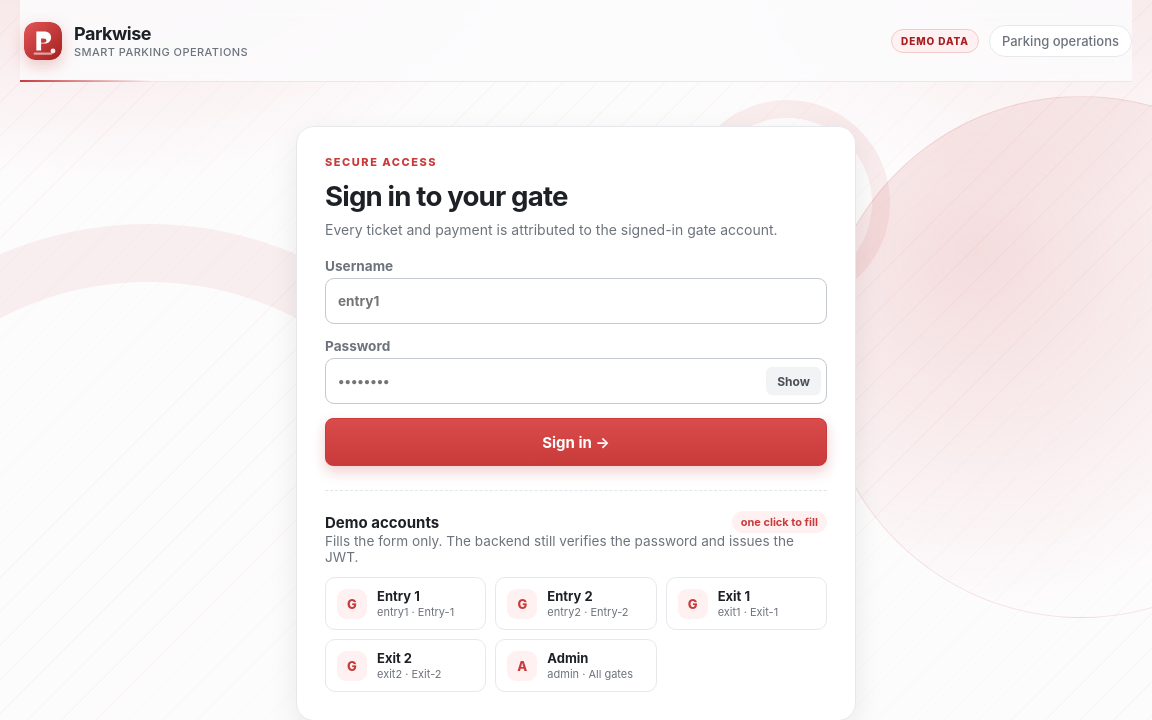
Test: parking console routes › a pre-filled demo account signs in and lands on its gate
What coordinates should you click on to do the following:
click the button "G Exit 1 exit1 · Exit-1"
I would click on:
 (746, 604)
Its box is [666,577,827,630].
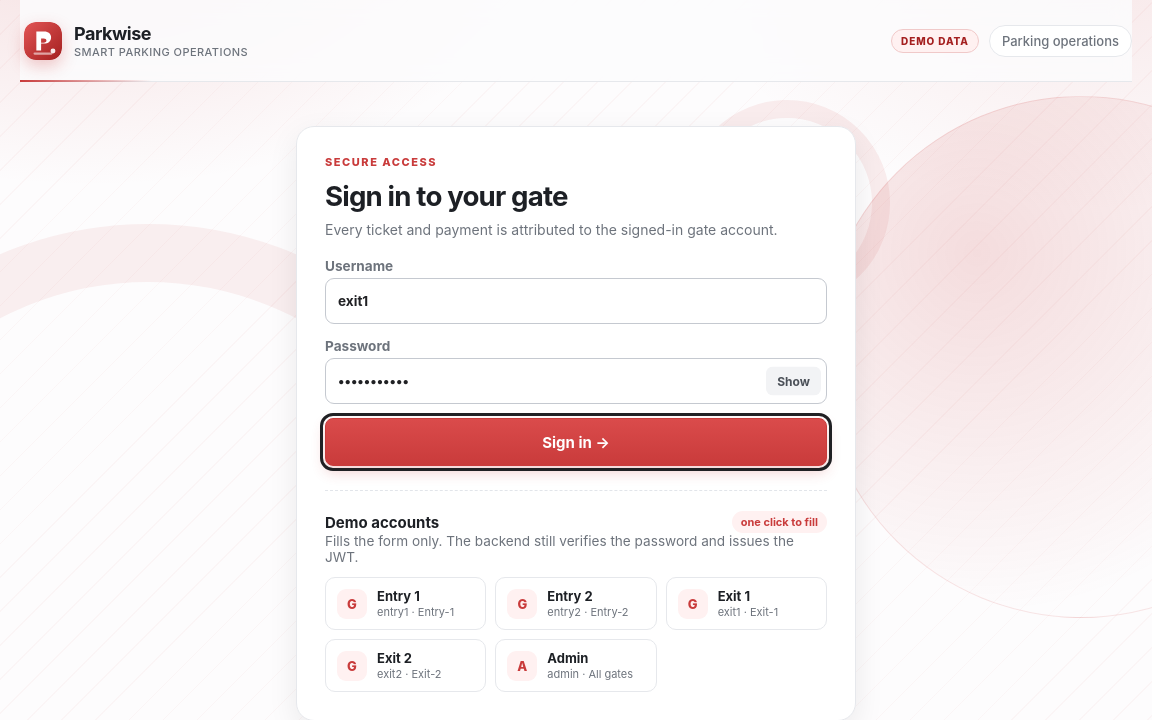
What coordinates should you click on to do the following:
click the button "Sign in →"
I would click on:
 (576, 442)
Its box is [325,418,827,466].
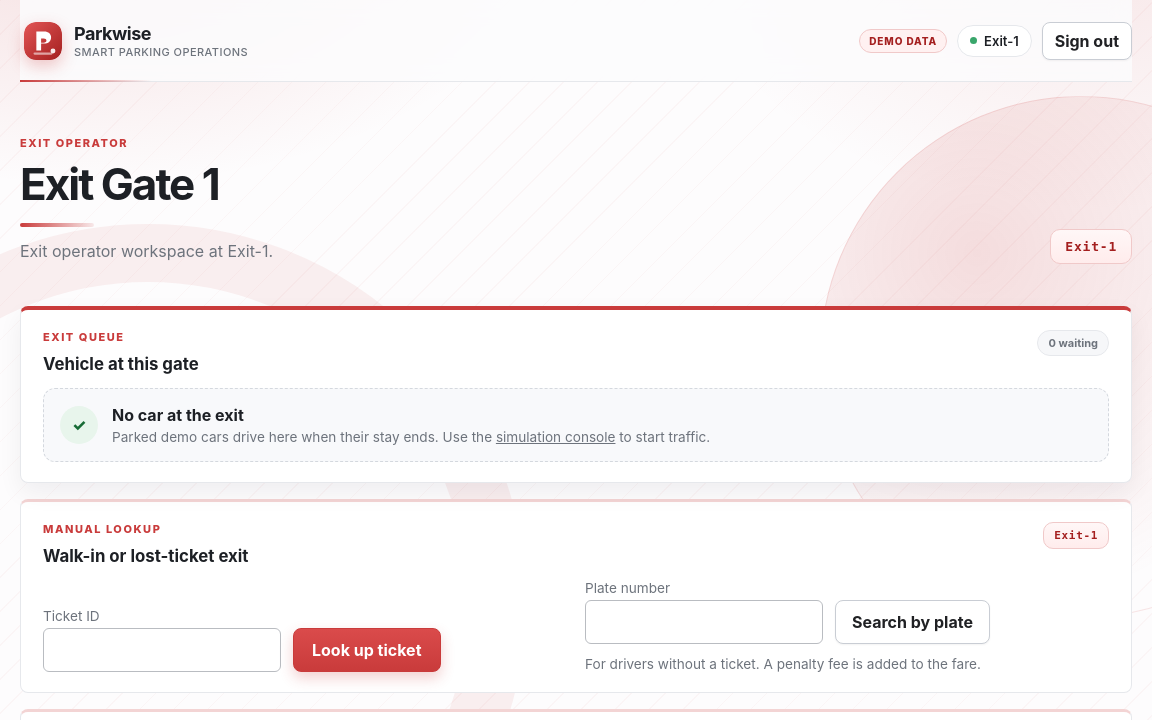
Expected: the heading "Exit Gate 1" is shown, [20,157,219,211]
